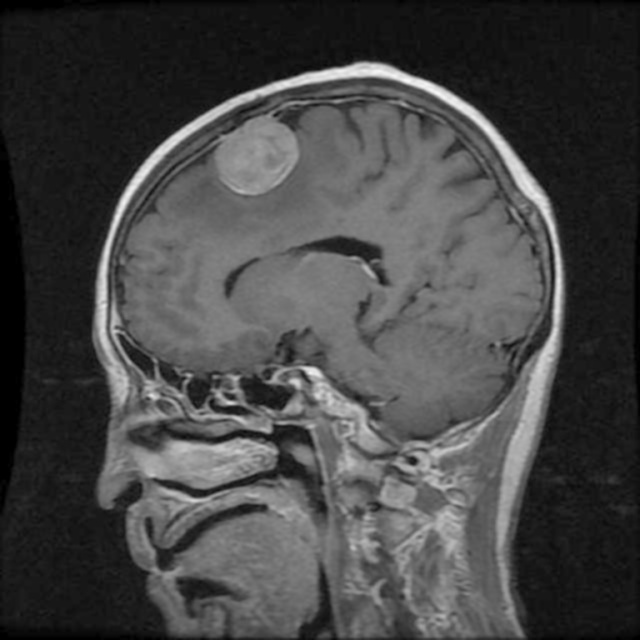meningioma tumor: (199, 109, 309, 206)
